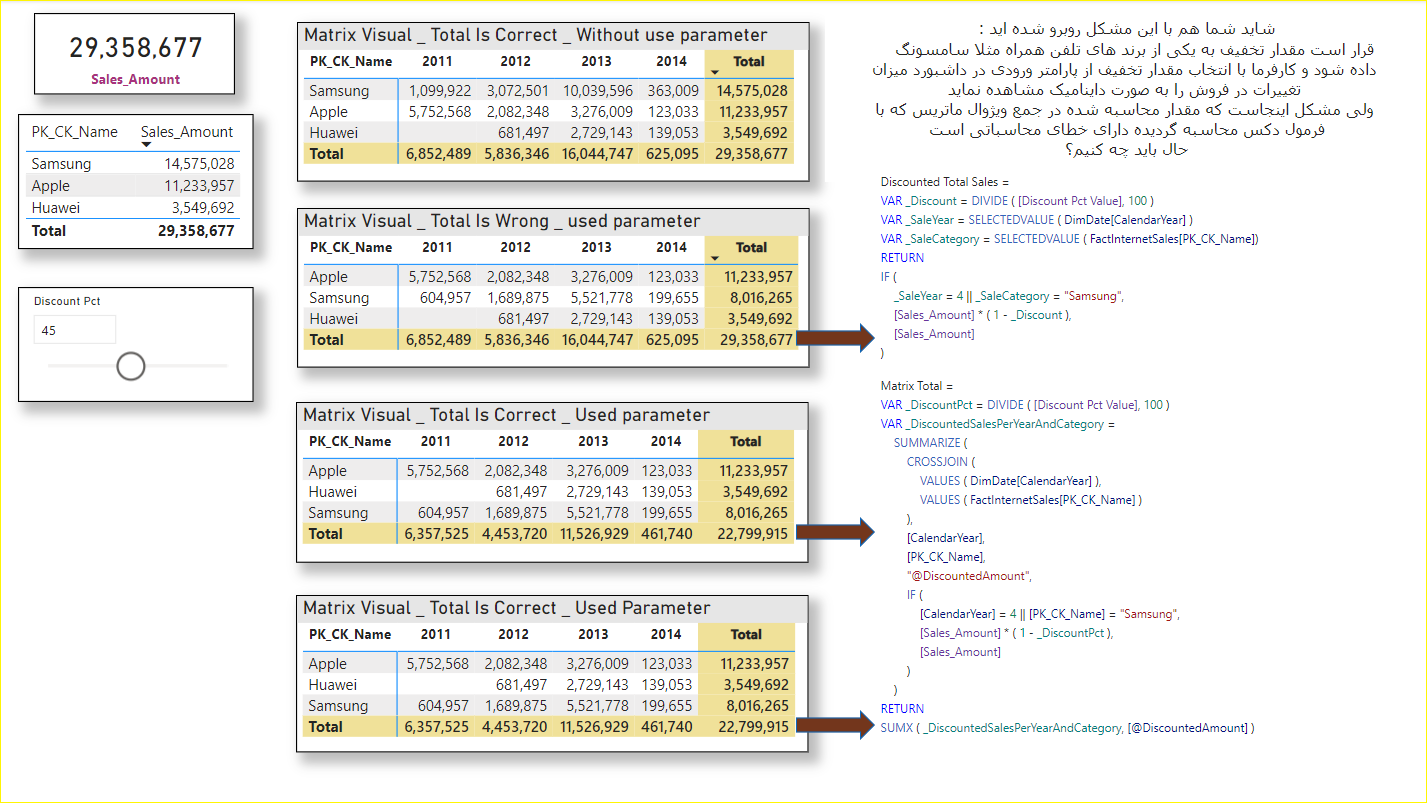

This screenshot's page, from the dashboard's own definition file:
{"tool":"powerbi","page":{"name":"Page 1","canvas":[1280,720],"ordinal":0},"visuals":[{"type":"card","fields":{"Values":["Measure.Sales_Amount"]},"box":[30.4,11.6,180,72.5],"z":0},{"type":"tableEx","fields":{"Values":["FactInternetSales.PK_CK_Name","Measure.Sales_Amount"]},"box":[16.1,102.1,211.3,120.9],"z":1000},{"type":"pivotTable","title":"Matrix Visual _ Total Is Correct _ Without use parameter","fields":{"Values":["Measure.Sales_Amount"],"Rows":["FactInternetSales.PK_CK_Name"],"Columns":["DimDate.FullDateAlternateKey.Variation.Date Hierarchy.Year","DimDate.FullDateAlternateKey.Variation.Date Hierarchy.Quarter","DimDate.FullDateAlternateKey.Variation.Date Hierarchy.Month"]},"box":[266,19.7,458.5,143.3],"z":2000},{"type":"pivotTable","title":"Matrix Visual _ Total Is Wrong  _ used parameter","fields":{"Rows":["FactInternetSales.PK_CK_Name"],"Columns":["DimDate.FullDateAlternateKey.Variation.Date Hierarchy.Year","DimDate.FullDateAlternateKey.Variation.Date Hierarchy.Quarter","DimDate.FullDateAlternateKey.Variation.Date Hierarchy.Month"],"Values":["Measure.Discounted Total Sales"]},"box":[266,186.3,458.5,143.3],"z":3000},{"type":"slicer","fields":{"Values":["Discount Pct.Discount Pct"]},"box":[16.1,257,211.3,103],"z":4000},{"type":"pivotTable","title":"Matrix Visual _ Total Is Correct  _ Used parameter","fields":{"Rows":["FactInternetSales.PK_CK_Name"],"Columns":["DimDate.FullDateAlternateKey.Variation.Date Hierarchy.Year","DimDate.FullDateAlternateKey.Variation.Date Hierarchy.Quarter","DimDate.FullDateAlternateKey.Variation.Date Hierarchy.Month"],"Values":["Measure.Matrix Total"]},"box":[265.1,360,459.4,144.2],"z":5000},{"type":"pivotTable","title":"Matrix Visual _ Total Is Correct _ Used Parameter","fields":{"Rows":["FactInternetSales.PK_CK_Name"],"Columns":["DimDate.FullDateAlternateKey.Variation.Date Hierarchy.Year","DimDate.FullDateAlternateKey.Variation.Date Hierarchy.Quarter","DimDate.FullDateAlternateKey.Variation.Date Hierarchy.Month"],"Values":["Measure.Simple Matrix Total"]},"box":[265.1,532.8,458.5,140.6],"z":6000},{"type":"card","fields":{"Values":["Measure.Measure"]},"box":[738.8,0,540.9,163],"z":7000},{"type":"shape","box":[712.8,289.3,70.7,26.9],"z":8000},{"type":"shape","box":[712.8,463,70.7,26.9],"z":9000},{"type":"shape","box":[712.8,635.8,70.7,26.9],"z":10000},{"type":"textbox","box":[783.6,147.8,475.5,181.8],"z":11000},{"type":"textbox","box":[783.6,330.4,475.5,346.6],"z":12000}]}

Visuals, with their boxes in screenshot pixels (x1, y1, x2, y2), scaled from the page's 1280x720 canvas onto the 1427x803 screenshot:
card - Measure.Sales_Amount: select_region(34, 13, 235, 94)
tableEx - FactInternetSales.PK_CK_Name x Measure.Sales_Amount: select_region(18, 114, 254, 249)
"Matrix Visual _ Total Is Correct _ Without use parameter" pivotTable: select_region(297, 22, 808, 182)
"Matrix Visual _ Total Is Wrong  _ used parameter" pivotTable: select_region(297, 208, 808, 368)
slicer - Discount Pct.Discount Pct: select_region(18, 287, 254, 402)
"Matrix Visual _ Total Is Correct  _ Used parameter" pivotTable: select_region(296, 402, 808, 562)
"Matrix Visual _ Total Is Correct _ Used Parameter" pivotTable: select_region(296, 594, 807, 751)
card - Measure.Measure: select_region(824, 0, 1426, 182)
shape: select_region(795, 323, 873, 353)
shape: select_region(795, 516, 873, 546)
shape: select_region(795, 709, 873, 739)
textbox: select_region(874, 165, 1404, 368)
textbox: select_region(874, 368, 1404, 755)
